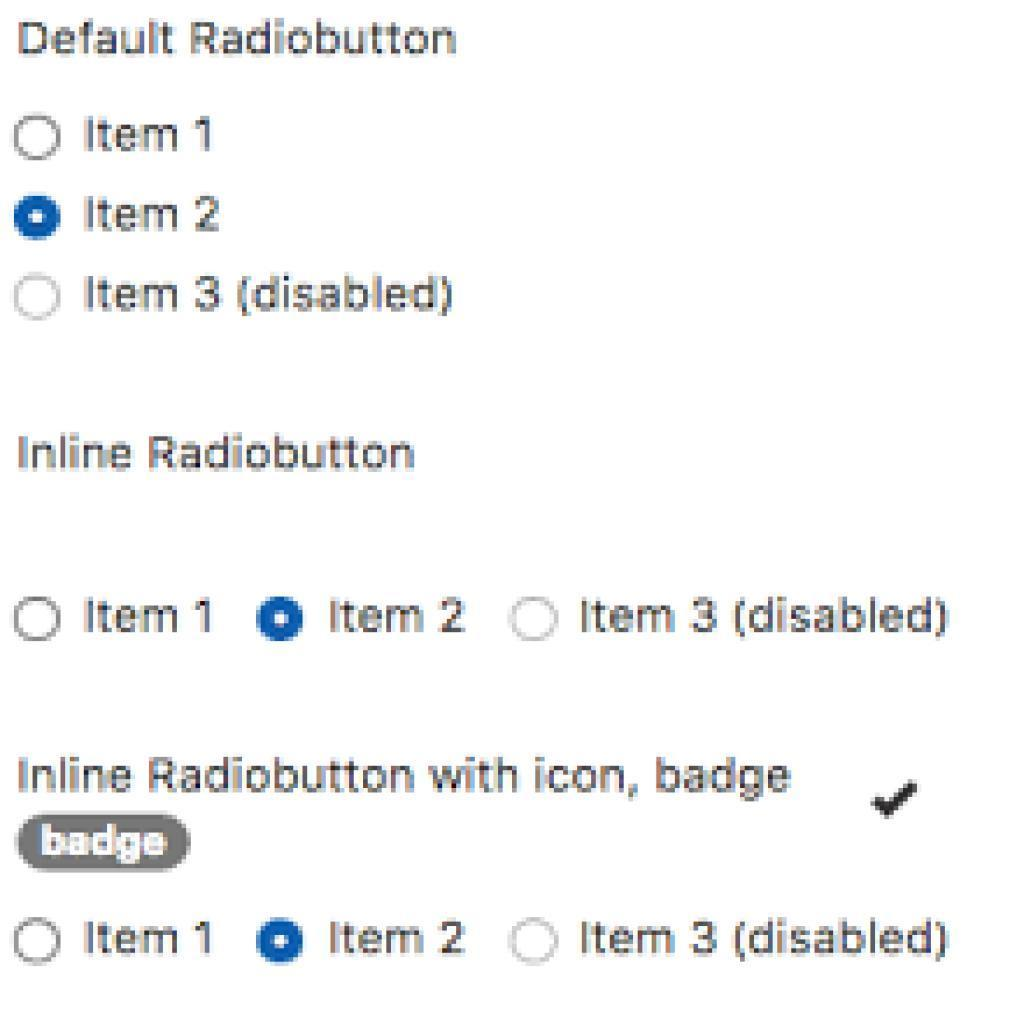button: (17, 815, 194, 874)
label: (15, 751, 798, 802), (572, 914, 957, 968), (12, 430, 422, 480), (14, 18, 460, 63), (80, 270, 457, 323), (575, 597, 952, 641), (324, 590, 470, 640), (327, 912, 470, 960), (81, 191, 221, 240), (81, 590, 220, 639), (82, 914, 218, 963), (84, 112, 215, 160)
radio: (11, 109, 66, 171), (13, 187, 64, 249), (252, 594, 310, 645), (10, 915, 65, 968), (504, 598, 565, 645), (253, 918, 309, 969), (507, 917, 563, 968), (15, 273, 61, 323), (13, 597, 63, 643)
